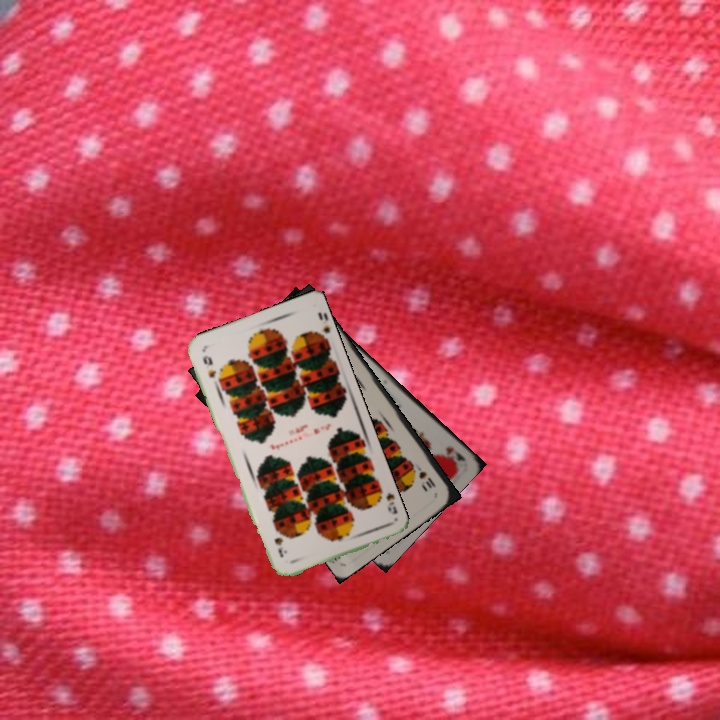HK: (442, 443, 468, 467)
S10: (409, 459, 438, 491)
S9: (373, 483, 400, 517), (199, 351, 219, 380)
